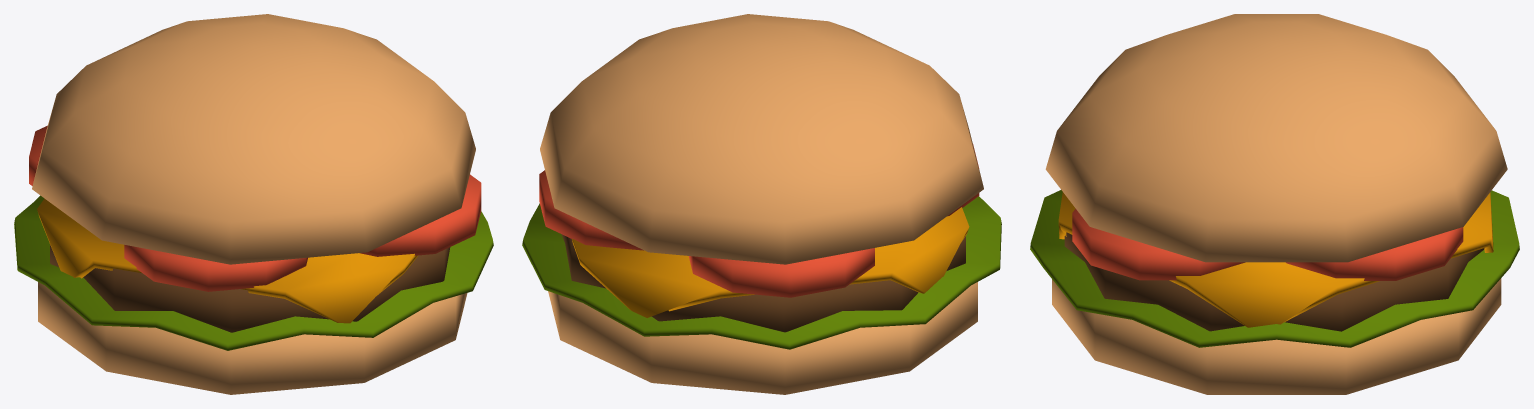
The model's file is Hamburger.fbx.
3 views of the same model, side by side, from view 1: azimuth 30°, elevation 25°; view 2: azimuth 150°, elevation 25°; view 3: azimuth 270°, elevation 25° (orthographic).
Visible parts, largest first — view 1: Sphere.018; view 2: Sphere.018; view 3: Sphere.018.
Part boxes in pixels (x1=…): Sphere.018: x1=14, y1=14, x2=493, y2=394; Sphere.018: x1=522, y1=14, x2=1001, y2=394; Sphere.018: x1=1030, y1=14, x2=1519, y2=394.
Size of the model in its own units: 223 by 130 by 223.
